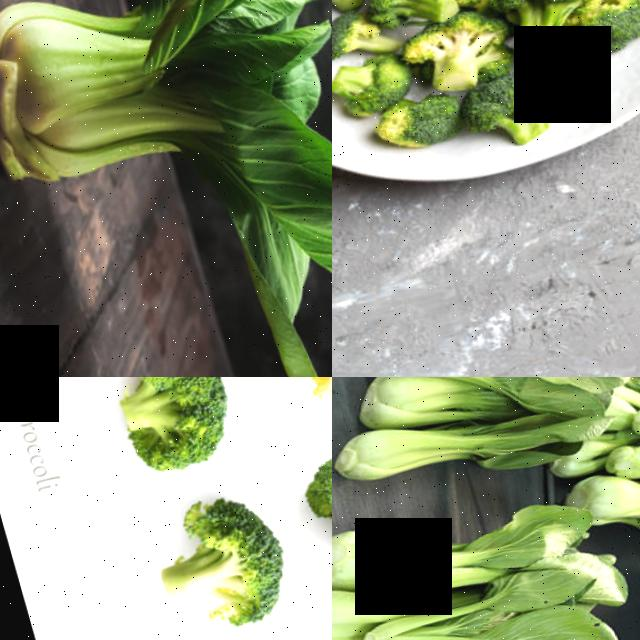bok choy: (0, 0, 332, 377), (332, 393, 585, 523), (364, 510, 573, 606), (341, 572, 595, 640)
broccoli: (130, 468, 302, 640), (90, 377, 266, 494), (270, 420, 332, 615), (460, 61, 575, 161), (350, 87, 473, 175), (413, 11, 505, 96), (332, 45, 418, 121), (361, 0, 459, 41), (504, 0, 596, 43), (332, 11, 371, 62)
